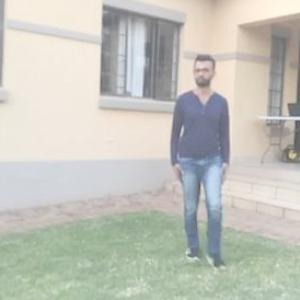follow: (166, 47, 234, 273)
